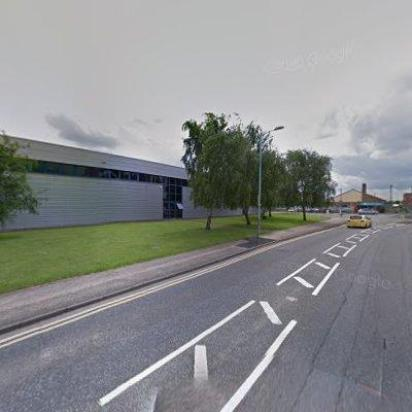moving-car: (346, 213, 374, 228)
